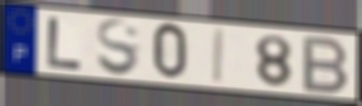0: (150, 21, 191, 85)
8: (252, 34, 296, 88)
B: (300, 34, 352, 96)
I: (210, 27, 227, 86)
L: (45, 15, 86, 72)
S: (94, 17, 142, 79)
